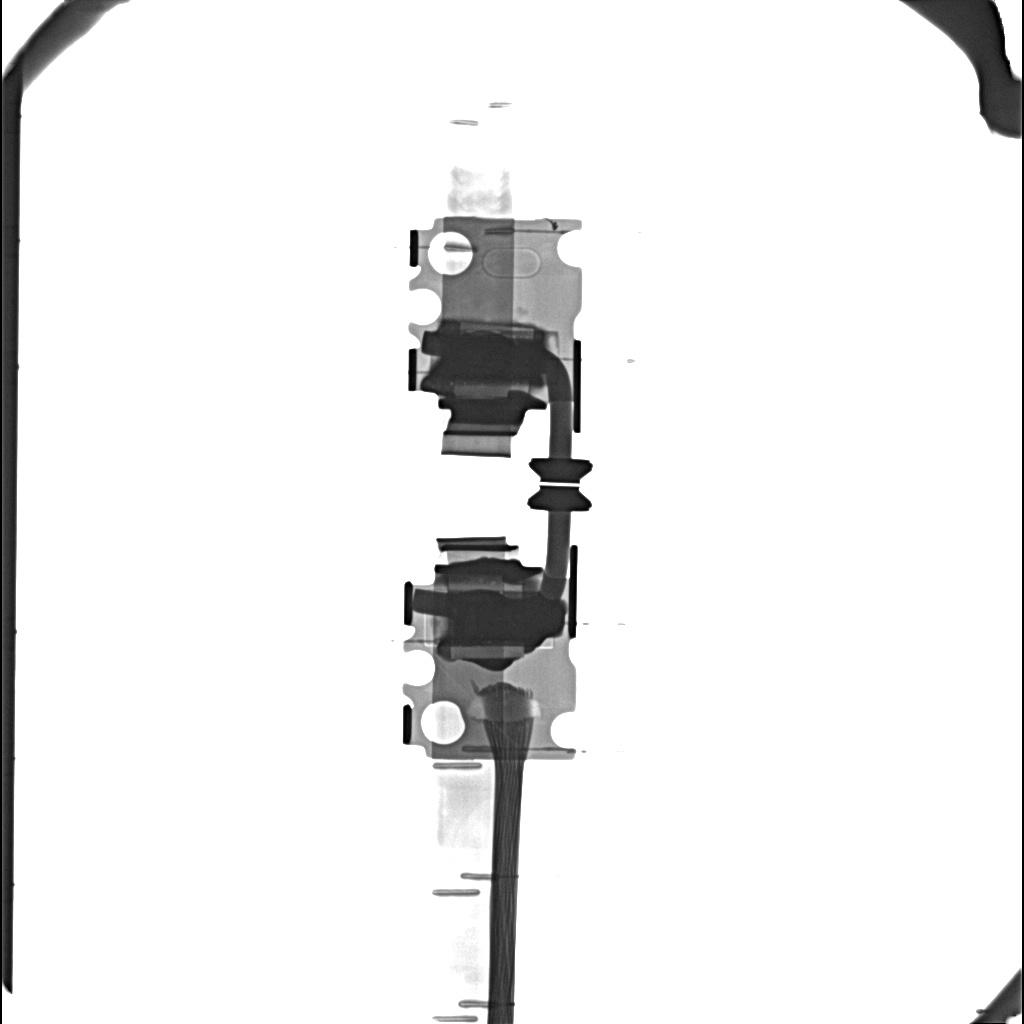defect: (453, 600, 564, 643), (441, 338, 541, 376), (456, 319, 537, 337), (447, 647, 527, 662)
